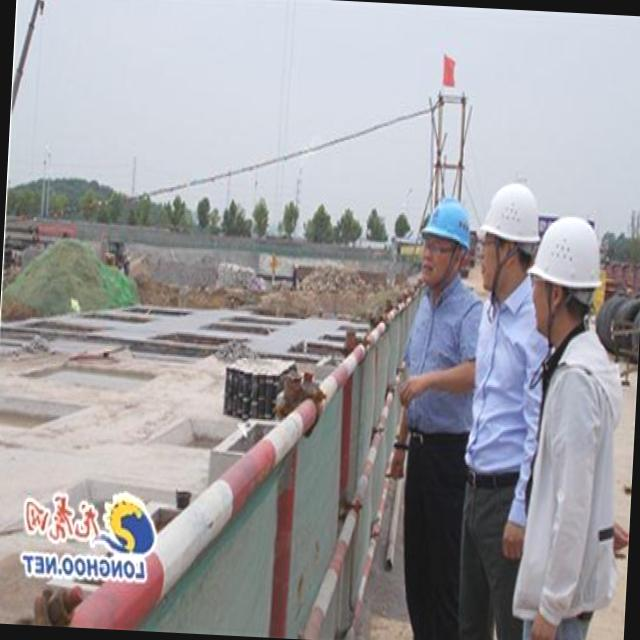helmet: (526, 222, 610, 296), (477, 184, 537, 245), (421, 198, 478, 250)
no-vest: (520, 329, 614, 616), (468, 280, 539, 480), (404, 278, 466, 434)
